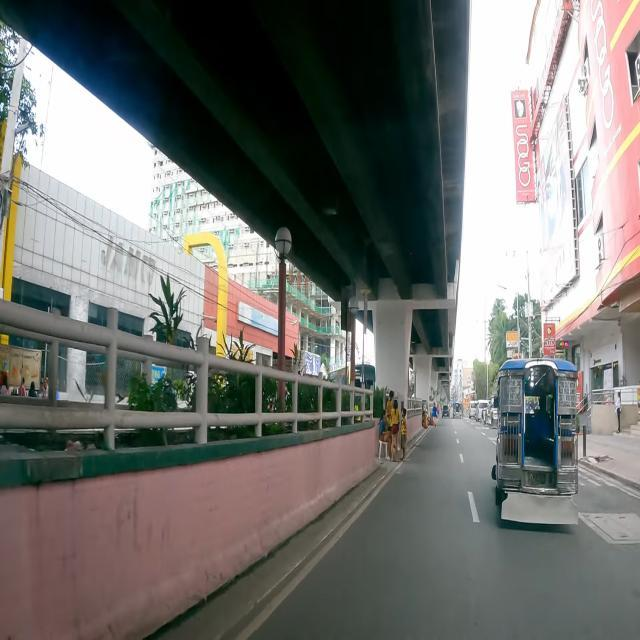jeepney: (496, 357, 580, 529), (452, 402, 462, 419)
